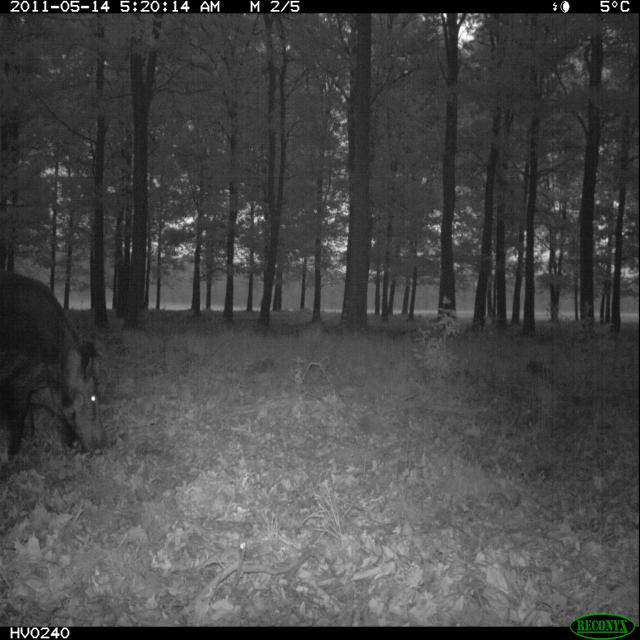boar: (0, 255, 115, 487)
